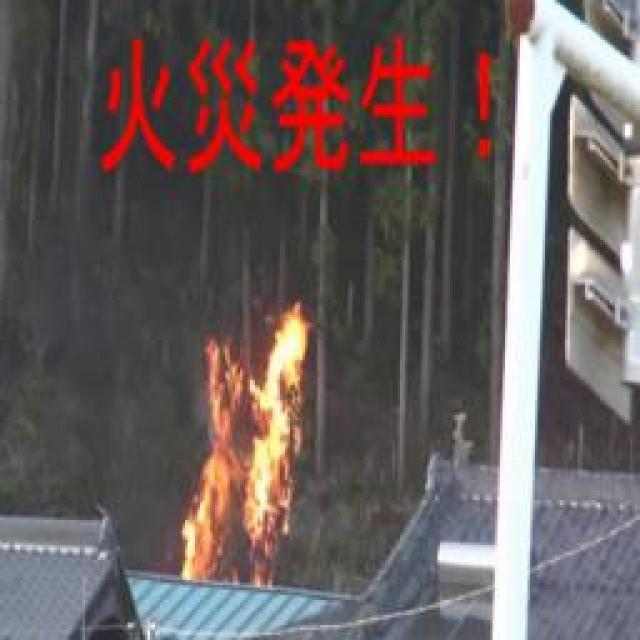Fire: (180, 302, 318, 594)
